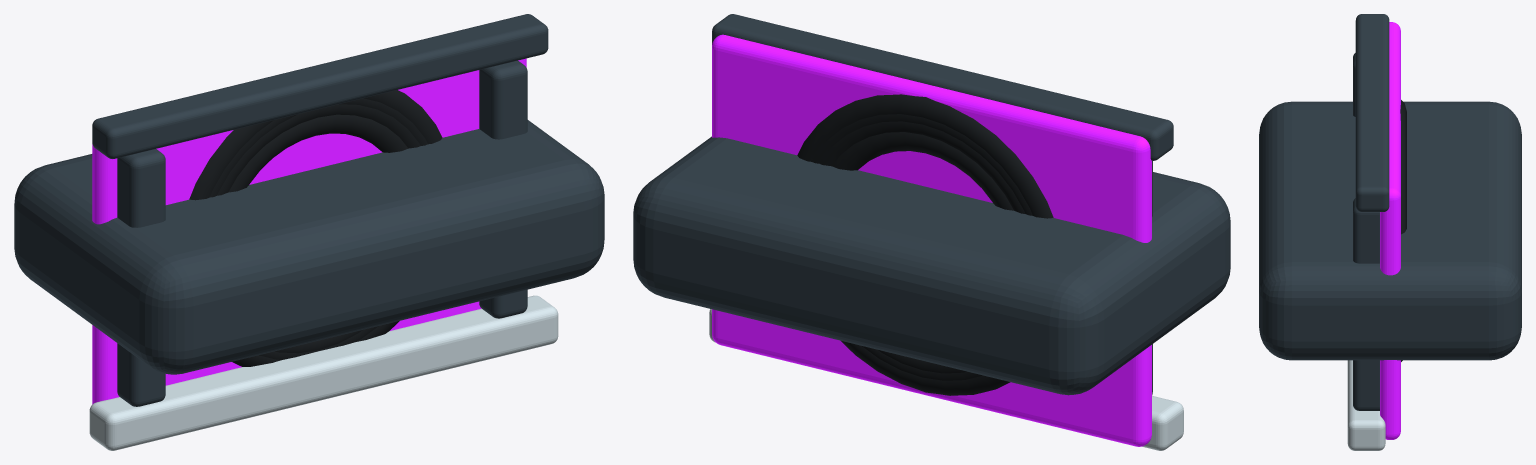
File: body_37.glb
3 renders of one model, left to right at view 1: azimuth 30°, elevation 25°; view 2: azimuth 150°, elevation 25°; view 3: azimuth 270°, elevation 25°, orthographic. The views are drawn at different scales.
Visible parts, largest first — view 1: asset_mesh__body_1601__reference_body, asset_mesh__body_1616__upper_flange, asset_mesh__body_1616__lower_flange, asset_mesh__body_1616__stamped_sheet, asset_mesh__body_1616__left_reinforcement, asset_mesh__body_1616__right_reinforcement, asset_mesh__body_1619__service_element, asset_mesh__body_1615__service_element, asset_mesh__body_1617__service_element, asset_mesh__body_1618__service_element; view 2: asset_mesh__body_1601__reference_body, asset_mesh__body_1616__stamped_sheet, asset_mesh__body_1616__lower_flange, asset_mesh__body_1619__service_element, asset_mesh__body_1615__service_element, asset_mesh__body_1617__service_element, asset_mesh__body_1618__service_element, asset_mesh__body_1616__upper_flange; view 3: asset_mesh__body_1601__reference_body, asset_mesh__body_1616__lower_flange, asset_mesh__body_1616__stamped_sheet, asset_mesh__body_1616__right_reinforcement, asset_mesh__body_1616__upper_flange, asset_mesh__body_1619__service_element.
Part boxes in pixels (x1,y1,x2,y2): asset_mesh__body_1601__reference_body: [14, 120, 604, 374]; asset_mesh__body_1616__upper_flange: [89, 295, 558, 450]; asset_mesh__body_1616__lower_flange: [92, 14, 548, 158]; asset_mesh__body_1616__stamped_sheet: [92, 58, 526, 404]; asset_mesh__body_1616__left_reinforcement: [117, 149, 165, 406]; asset_mesh__body_1616__right_reinforcement: [479, 60, 527, 318]; asset_mesh__body_1619__service_element: [189, 90, 442, 366]; asset_mesh__body_1615__service_element: [228, 114, 408, 192]; asset_mesh__body_1617__service_element: [217, 104, 420, 353]; asset_mesh__body_1618__service_element: [210, 98, 427, 359]; asset_mesh__body_1601__reference_body: [633, 136, 1230, 395]; asset_mesh__body_1616__stamped_sheet: [712, 34, 1151, 446]; asset_mesh__body_1616__lower_flange: [712, 14, 1173, 160]; asset_mesh__body_1619__service_element: [797, 94, 1053, 395]; asset_mesh__body_1615__service_element: [832, 132, 1013, 210]; asset_mesh__body_1617__service_element: [819, 121, 1025, 373]; asset_mesh__body_1618__service_element: [812, 114, 1032, 380]; asset_mesh__body_1616__upper_flange: [709, 309, 1183, 450]; asset_mesh__body_1601__reference_body: [1259, 101, 1521, 360]; asset_mesh__body_1616__lower_flange: [1355, 14, 1389, 211]; asset_mesh__body_1616__stamped_sheet: [1380, 22, 1400, 439]; asset_mesh__body_1616__right_reinforcement: [1353, 198, 1379, 410]; asset_mesh__body_1616__upper_flange: [1347, 360, 1385, 450]; asset_mesh__body_1619__service_element: [1400, 100, 1406, 361].
Size of the model in its own units: 1.47 by 0.9694 by 0.882.
